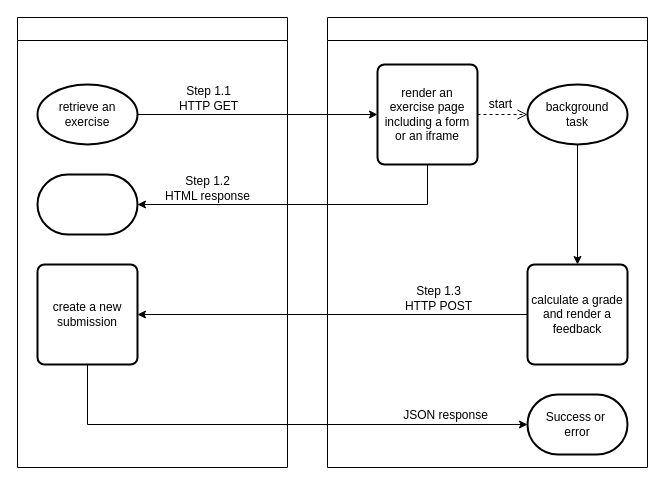
The diagram is 665 pixels wide and 485 high, and some of its shapes have lost their labels. Here are the shapes that lost their labels. From the top down, the box of each, then its label:
(36, 173, 138, 235): an exercise page
(16, 16, 288, 468): Learning Management System
(326, 16, 648, 468): Assessment Service
